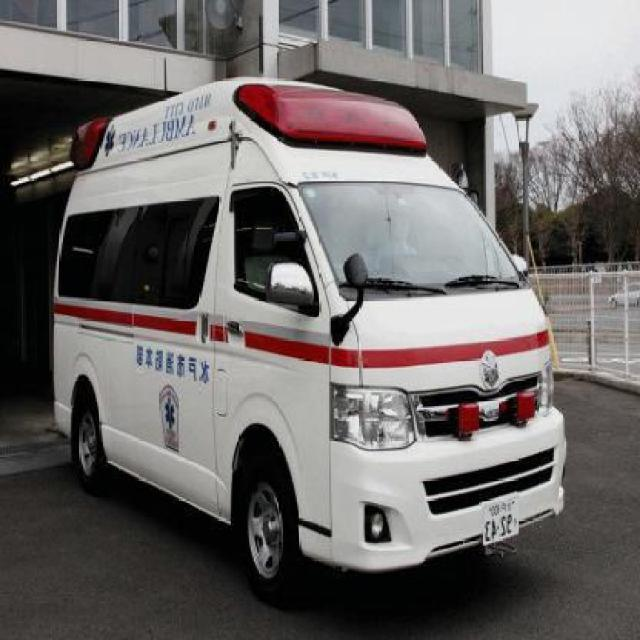emergency: (49, 74, 568, 602)
